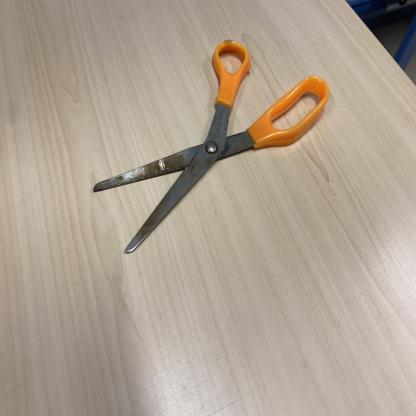scissors: (92, 39, 331, 257)
